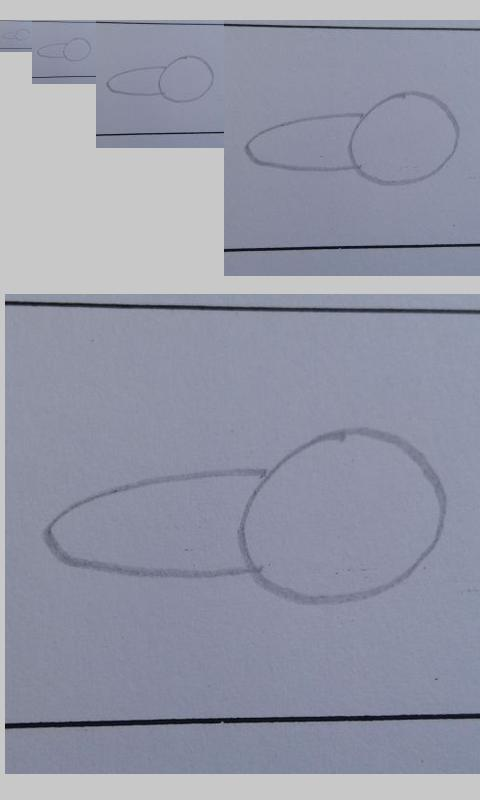switch: (43, 427, 448, 607), (244, 89, 461, 187), (106, 54, 216, 104), (37, 37, 92, 62), (1, 28, 31, 41)
